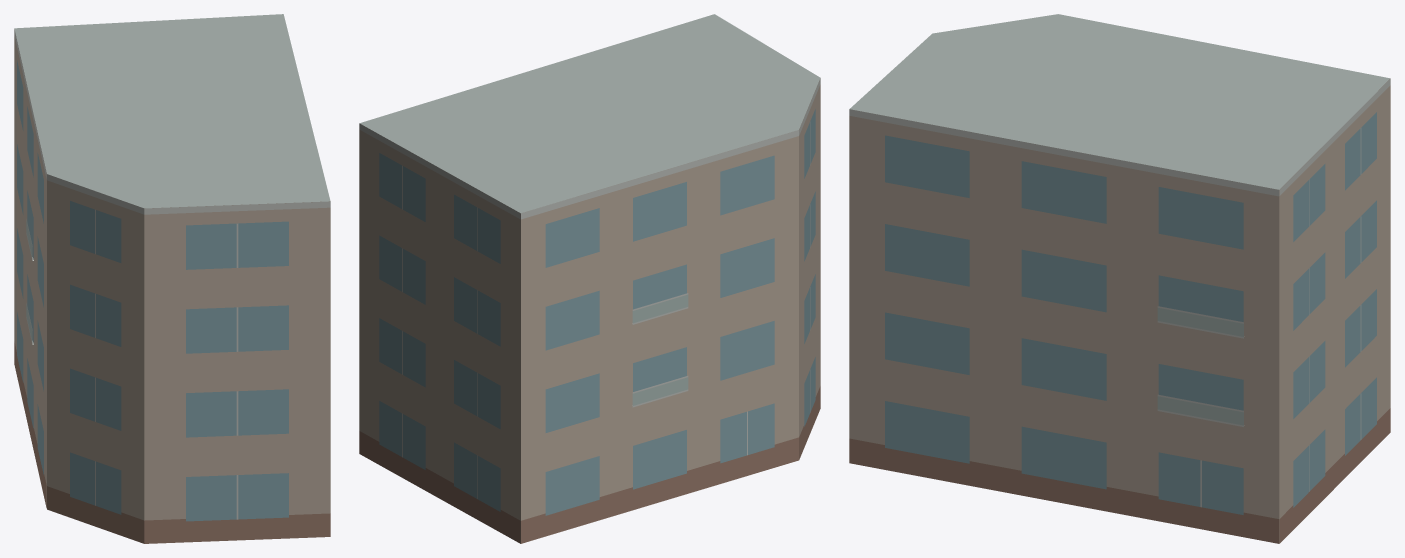
Rendered from survey-upis-32669149.glb.
3 renders of one model, left to right at view 1: azimuth 30°, elevation 25°; view 2: azimuth 150°, elevation 25°; view 3: azimuth 270°, elevation 25°, orthographic. The views are drawn at different scales.
Visible parts, largest first — view 1: survey-upis-32669149.tmp; view 2: survey-upis-32669149.tmp; view 3: survey-upis-32669149.tmp.
Part boxes in pixels (left/top/right/bottom): survey-upis-32669149.tmp: left=14, top=14, right=330, bottom=543; survey-upis-32669149.tmp: left=359, top=14, right=820, bottom=543; survey-upis-32669149.tmp: left=849, top=14, right=1390, bottom=543.
Size of the model in its own units: 13.86 by 13 by 18.02.
